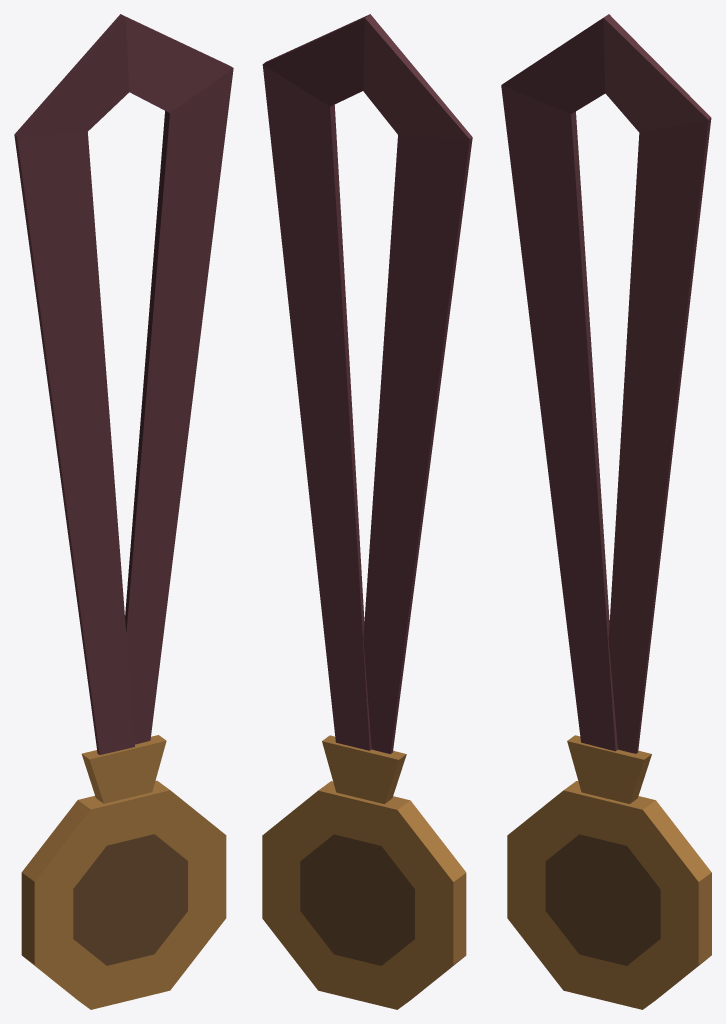
The model's file is medal-big-gold-b.fbx.
3 views of the same model, side by side, from view 1: azimuth 30°, elevation 25°; view 2: azimuth 150°, elevation 25°; view 3: azimuth 330°, elevation 25° (orthographic).
Parts seen in each view (by area): view 1: medal-big-gold-b; view 2: medal-big-gold-b; view 3: medal-big-gold-b.
Part boxes in pixels (x1,y1,x2,y2): medal-big-gold-b: (14,14,233,1009); medal-big-gold-b: (262,14,472,1009); medal-big-gold-b: (501,14,711,1009).
Bounding box in the file's own units: 0.0736 × 0.3257 × 0.00886.
